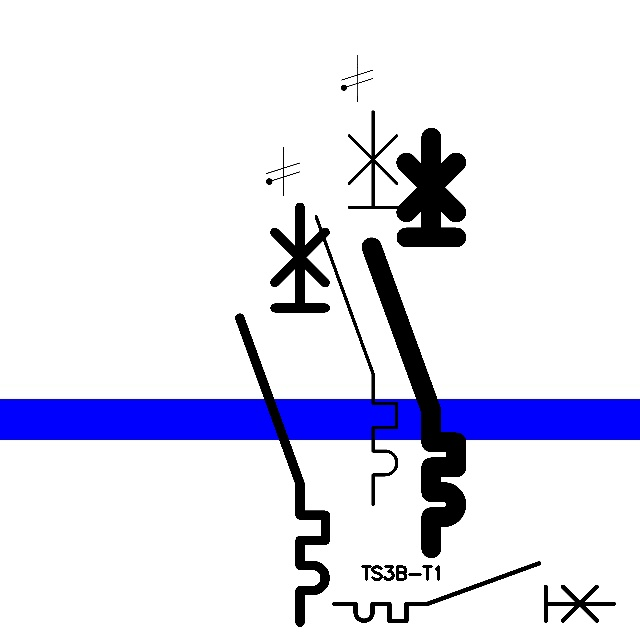interruptor_termomagnetico: (229, 196, 336, 633), (361, 127, 467, 559), (306, 101, 407, 514), (327, 556, 621, 628)
